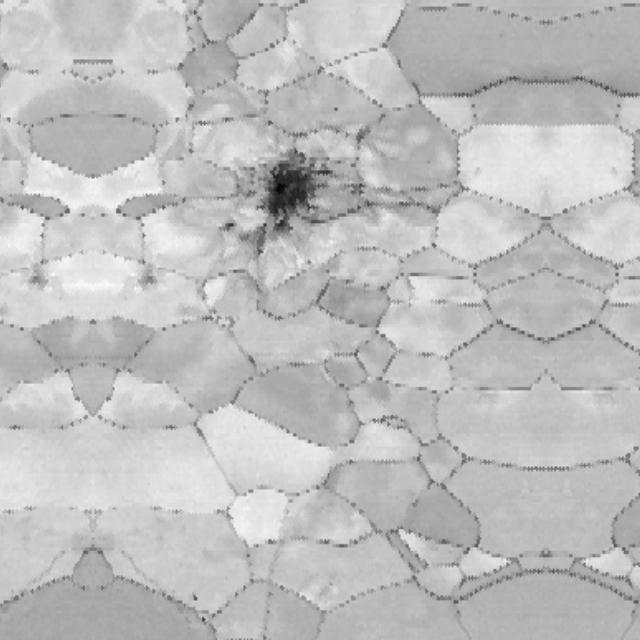good_void: (210, 119, 350, 275), (129, 260, 165, 303), (23, 260, 58, 303), (155, 174, 172, 190), (187, 590, 203, 607), (15, 175, 32, 189), (196, 612, 211, 627)
